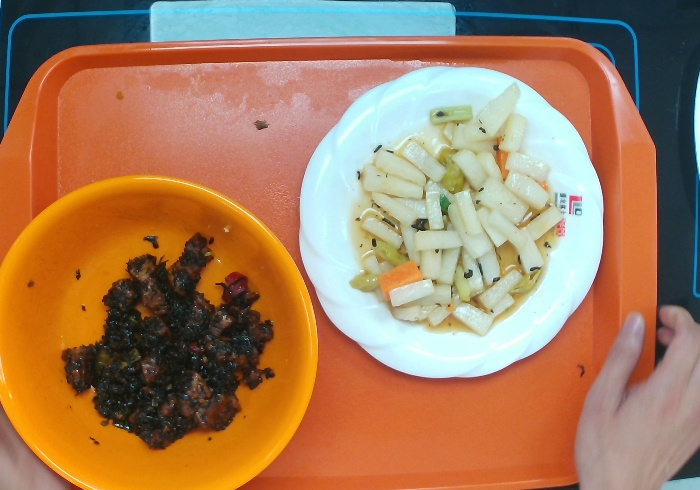ZNLD-Hua_Bian_Wan: (296, 64, 606, 379)
ZNLD-Ju_Se_Tang_Wan: (1, 172, 320, 490)
